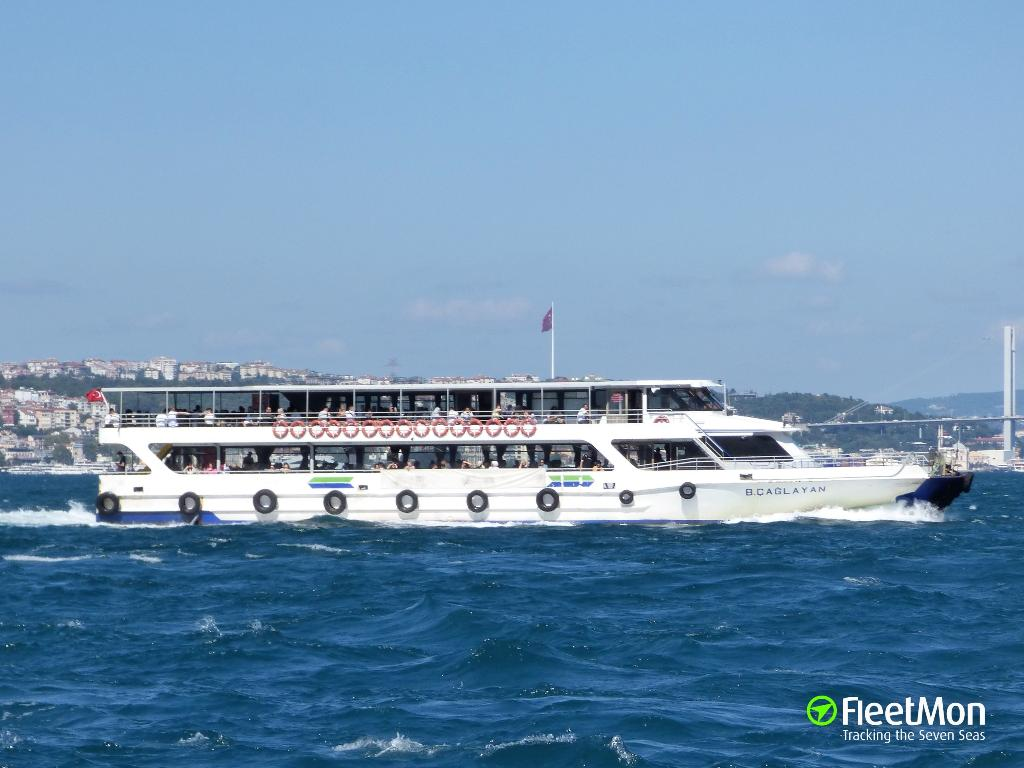PassengerShip: (75, 348, 987, 536)
